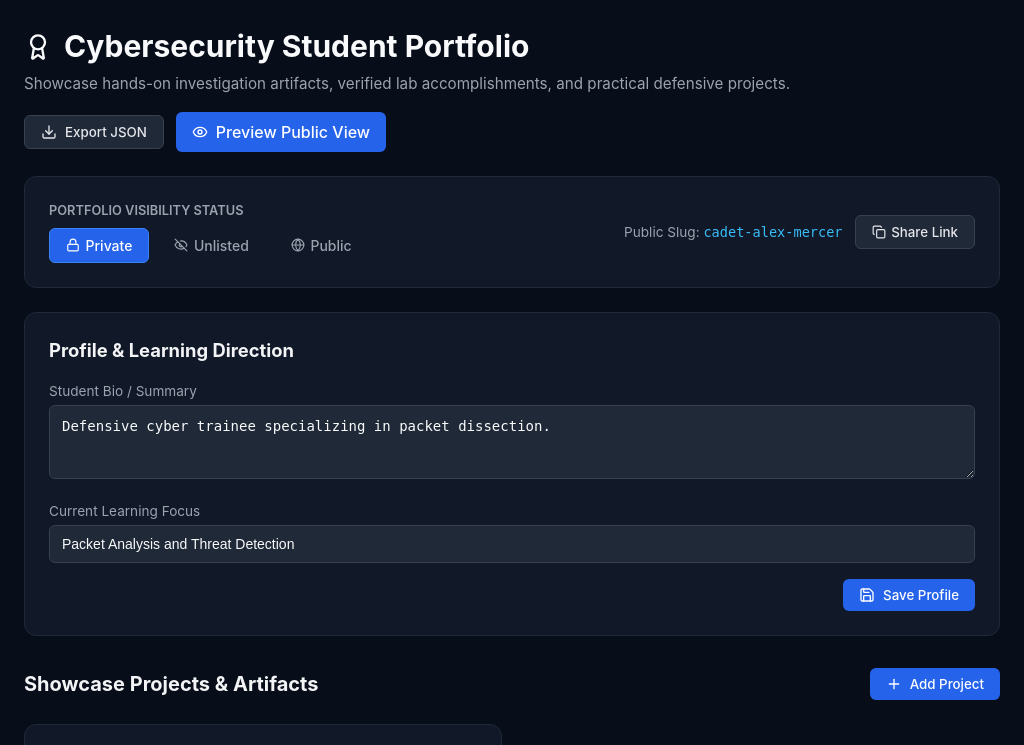
Scenario: Step 20: Analytics, Skill Assessment, Portfolio & Admin UI › renders PortfolioPage, supports visibility toggles and blocks dangerous URLs
Expected: the text "Cybersecurity Student Portfolio" is shown, [64,24,529,69]
Expected: the text "cadet-alex-mercer" is shown, [703,224,842,240]
// Toggle visibility to Public
Click the button "Public" at point(321, 246), box [274,228,369,263]
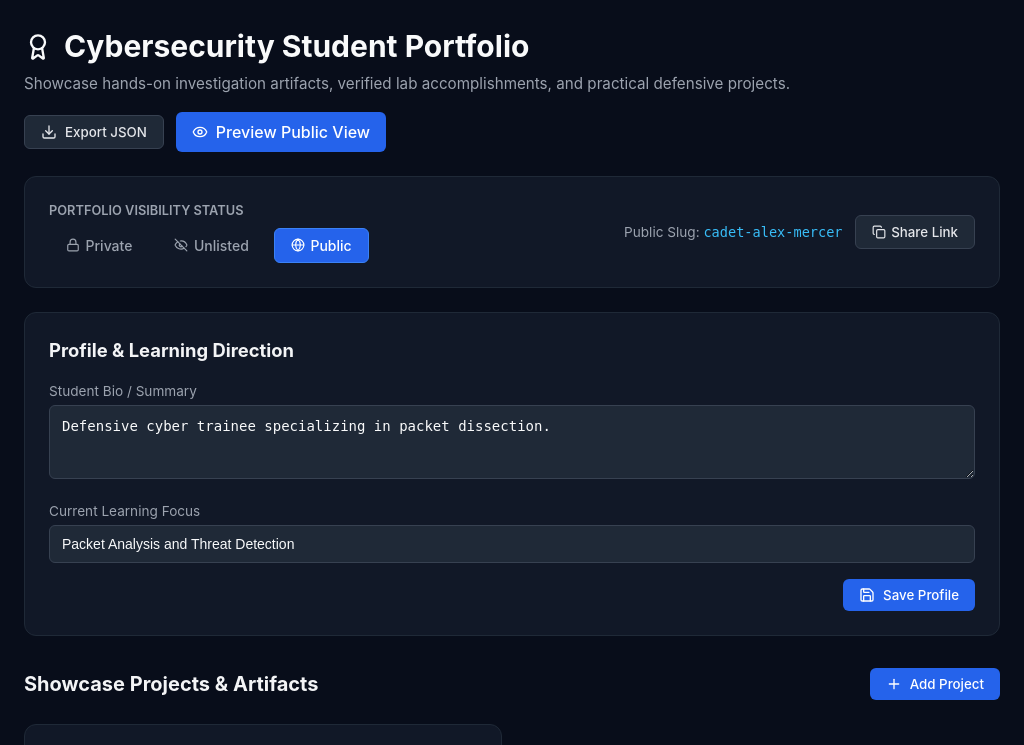
// Open Add Project modal
Click the button "Add Project" at point(935, 684), box [870,668,1000,700]
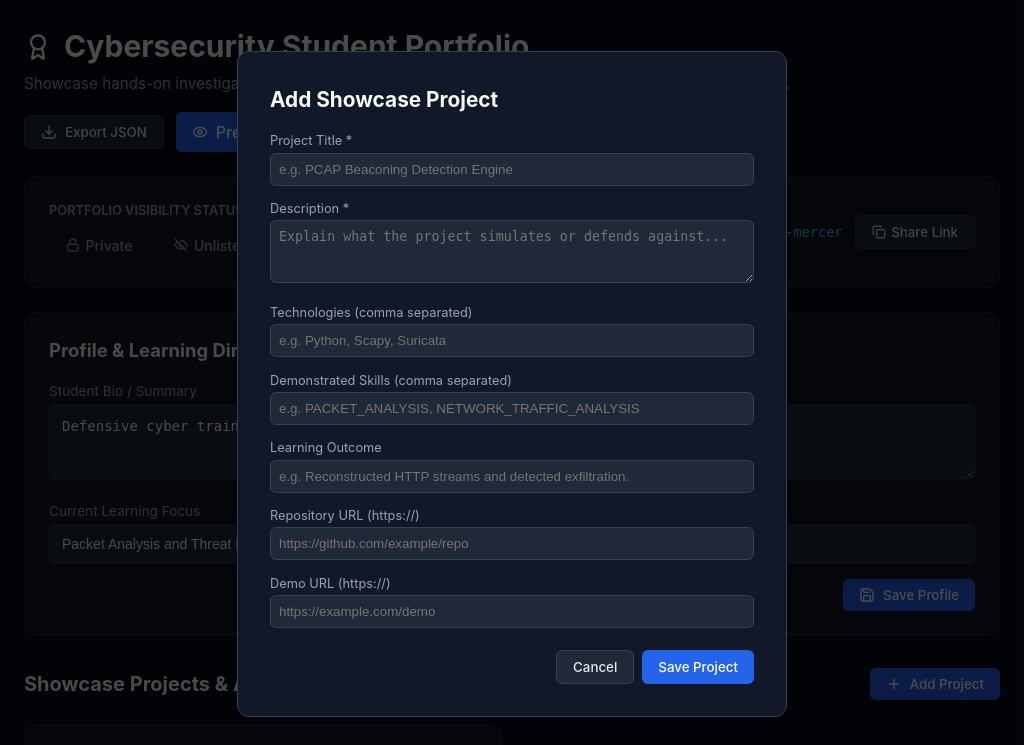
Expected: the heading "Add Showcase Project" is shown, [270,87,498,112]
Type "XSS Probe" into the field with placeholder "e.g. PCAP Beaconing Detection Engine" at point(512, 169), box [270,152,754,186]
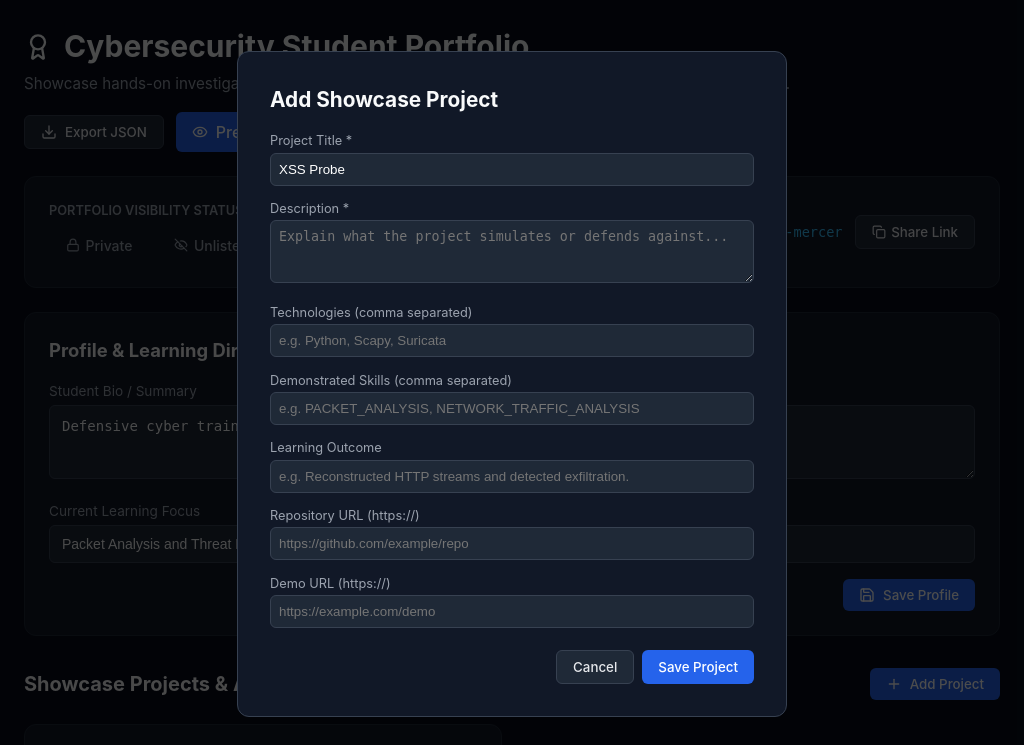
Type "Testing validation" into the text box with placeholder "Explain what the project simulates or defends against..." at point(512, 252), box [270,220,754,283]
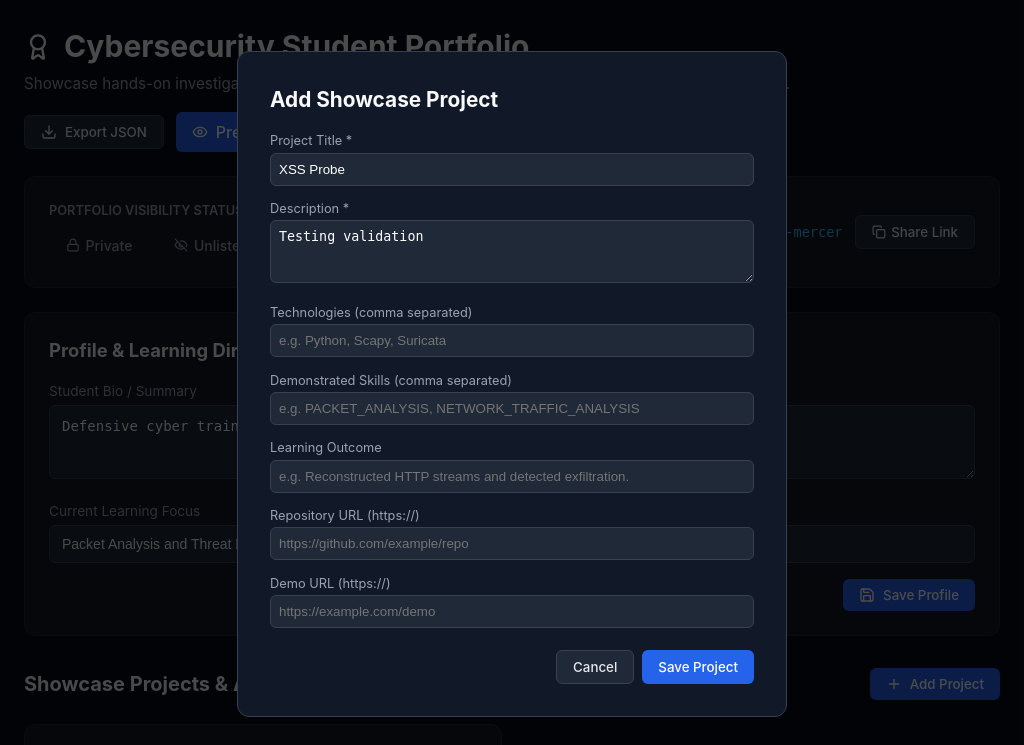
Type "javascript:alert(1)" into the field with placeholder "https://github.com/example/repo" at point(512, 544), box [270,528,754,560]
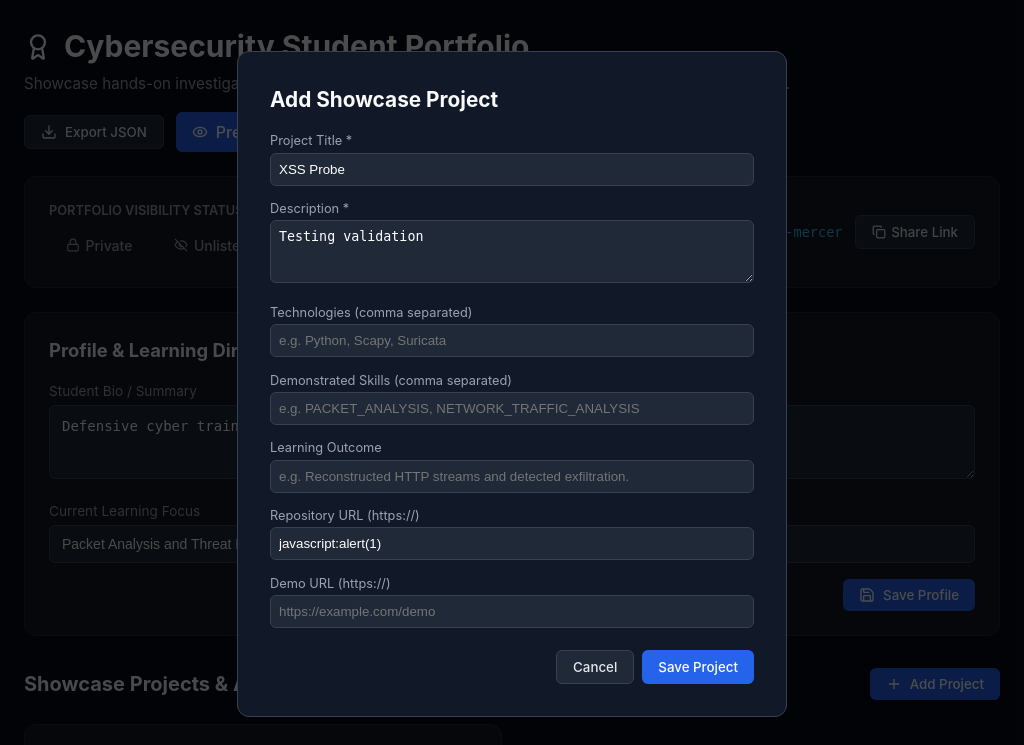
Click the button "Save Project" at point(698, 667), box [642,650,754,684]
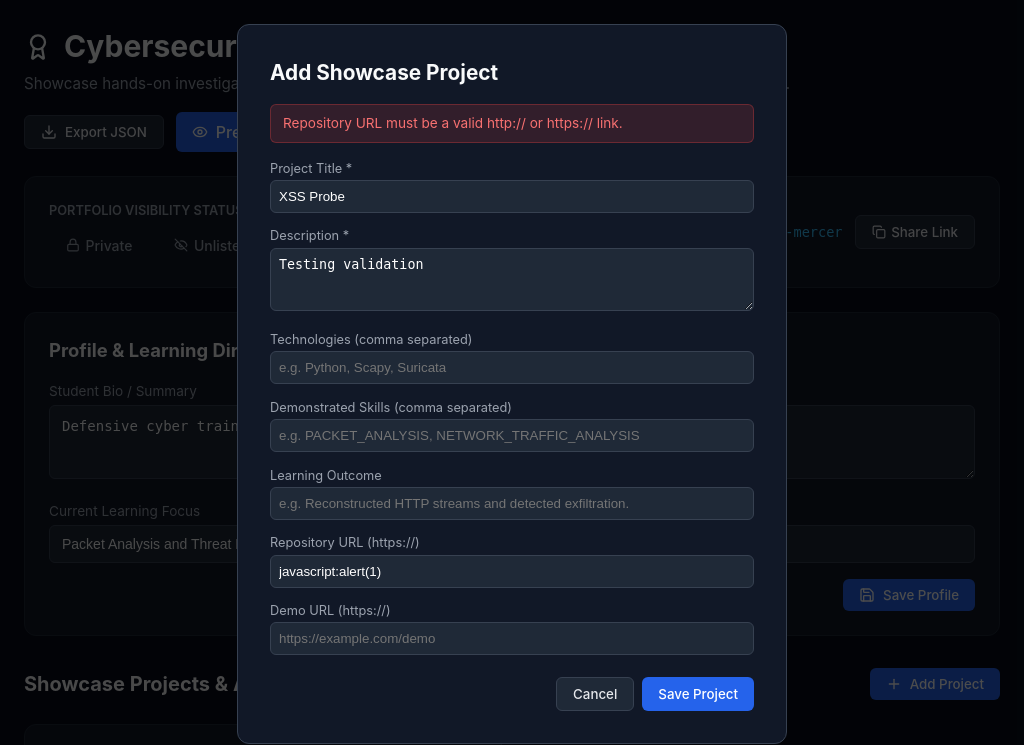
Expected: the text "Repository URL must be a valid http:// or https:// link." is shown, [270,104,754,143]
